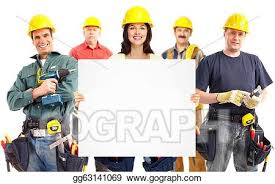Person_wearing_helmet: (119, 4, 153, 31), (27, 11, 56, 40), (221, 9, 248, 36), (78, 13, 105, 33), (171, 14, 194, 34)
